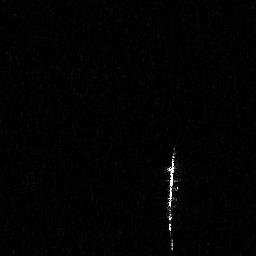ship: (163, 144, 181, 252)
